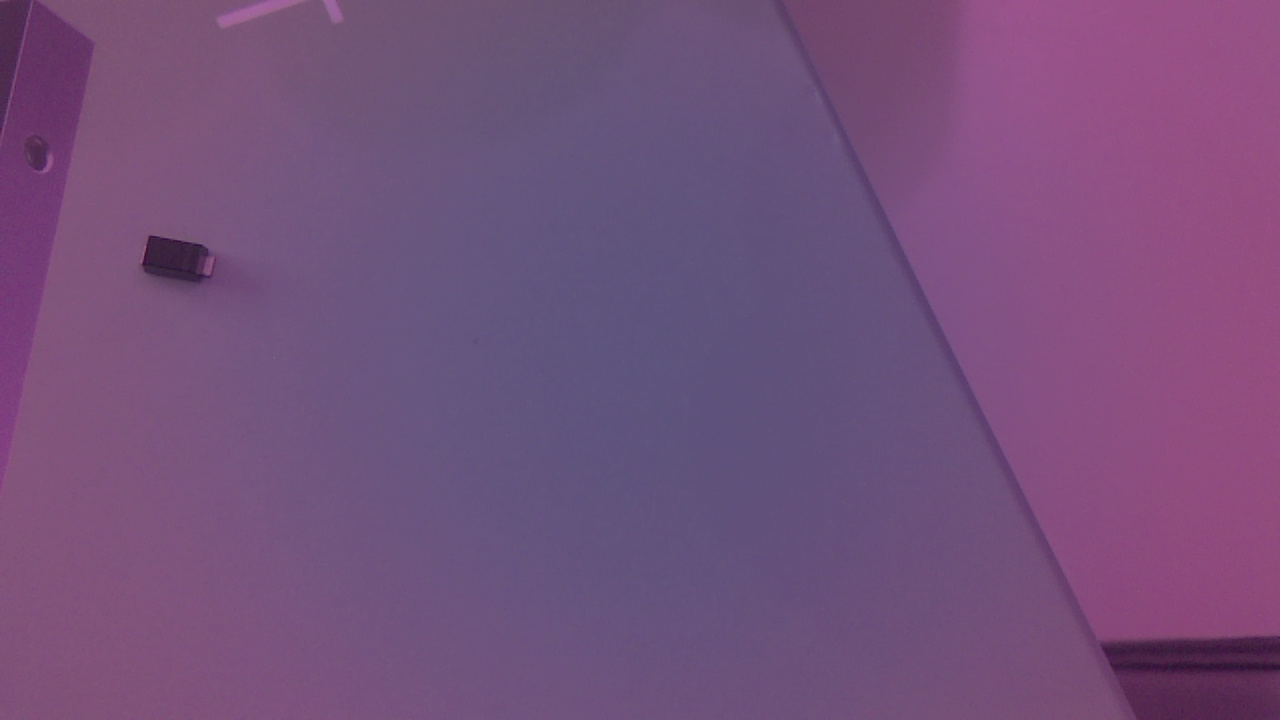Diode: (137, 232, 222, 290)
